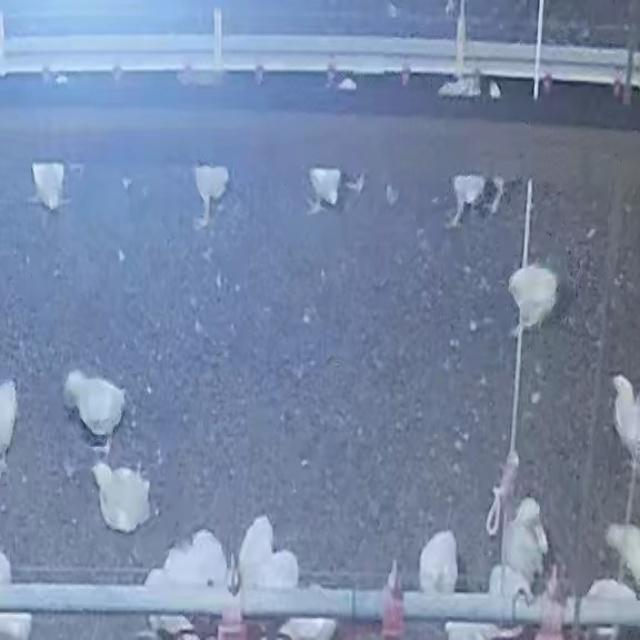chicken: (90, 449, 154, 530), (57, 367, 128, 439), (418, 523, 463, 618), (225, 515, 274, 601), (507, 257, 561, 333), (503, 500, 544, 585), (194, 527, 229, 607), (158, 548, 194, 623)
